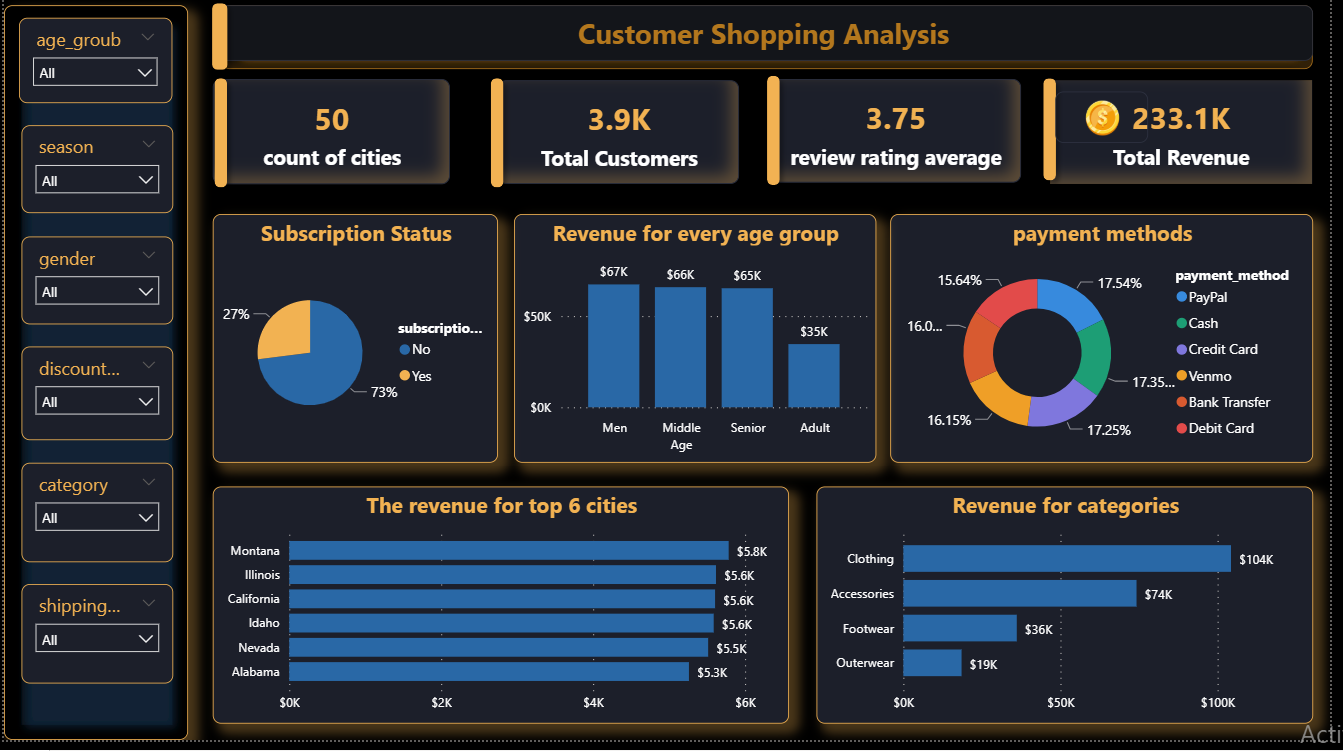

The page's visual inventory and layout, read from the dashboard file:
{"tool":"powerbi","page":{"name":"Page 1","canvas":[1280,720],"ordinal":0},"visuals":[{"type":"shape","box":[209.8,10.9,1052.9,61.5],"z":0},{"type":"card","fields":{"Values":["customer_behavior.review rating average"]},"box":[737.9,82.1,243.5,99.9],"z":1000},{"type":"card","fields":{"Values":["customer_behavior.purchase amount avrege"]},"box":[1009.7,83.5,253.1,99.9],"z":2000},{"type":"card","fields":{"Values":["customer_behavior.Total Customers"]},"box":[476.6,83.5,232.8,100],"z":3000},{"type":"textbox","box":[201.3,11,1061.4,53.4],"z":4000},{"type":"shape","box":[727.6,69.8,30.1,123.3],"z":5000},{"type":"shape","box":[191.7,0,32.9,82.2],"z":6000},{"type":"actionButton","box":[0,10.9,177.3,709.1],"z":7000},{"type":"slicer","fields":{"Values":["customer_behavior.age_groub"]},"box":[15,23.3,147.8,82.1],"z":8000},{"type":"slicer","fields":{"Values":["customer_behavior.season"]},"box":[16.4,127,146.4,84.8],"z":9000},{"type":"slicer","fields":{"Values":["customer_behavior.gender"]},"box":[16.4,233.4,146.4,84.8],"z":10000},{"type":"slicer","fields":{"Values":["customer_behavior.category"]},"box":[16.4,451.8,146.4,95.8],"z":11000},{"type":"donutChart","title":"payment methods","fields":{"Category":["customer_behavior.payment_method"],"Y":["Sum(customer_behavior.customer_id)"]},"box":[854.6,212.3,408.1,239.7],"z":12000},{"type":"slicer","fields":{"Values":["customer_behavior.discount_applied"]},"box":[16.4,339.8,146.4,90.3],"z":13000},{"type":"slicer","fields":{"Values":["customer_behavior.shipping_type"]},"box":[16.4,569.1,146.4,95.8],"z":14000},{"type":"clusteredBarChart","title":"Revenue for categories","fields":{"Category":["customer_behavior.category"],"Y":["Sum(customer_behavior.purchase_amount_)"]},"box":[783.4,475.2,479.4,228.7],"z":15000},{"type":"card","fields":{"Values":["customer_behavior.count of cities"]},"box":[201.3,82.2,228.7,101.3],"z":16000},{"type":"shape","box":[460.9,72.5,30.1,123.1],"z":17000},{"type":"shape","box":[194.3,72.5,30.1,123.1],"z":18000},{"type":"clusteredBarChart","title":"The revenue for top 6 cities ","fields":{"Category":["customer_behavior.location"],"Y":["Sum(customer_behavior.purchase_amount_)"]},"box":[201.3,475.2,556,228.7],"z":19000},{"type":"clusteredColumnChart","title":"Revenue for every age group","fields":{"Category":["customer_behavior.age_groub"],"Y":["Sum(customer_behavior.purchase_amount_)"]},"box":[491.7,212.3,349.2,239.7],"z":20000},{"type":"shape","box":[994.3,72.6,30.1,116.4],"z":21000},{"type":"pieChart","title":"Subscription Status","fields":{"Category":["customer_behavior.subscription_status"],"Y":["CountNonNull(customer_behavior.customer_id)"]},"box":[201.3,212.3,275.3,239.7],"z":22000},{"type":"image","box":[1014.3,94.1,89.2,49.4],"z":23000}]}

Visuals, with their boxes in screenshot pixels (x1, y1, x2, y2), scaled from the page's 1280x720 canvas onto the 1343x751 screenshot:
shape: [x1=220, y1=11, x2=1325, y2=76]
card - customer_behavior.review rating average: [x1=774, y1=86, x2=1030, y2=190]
card - customer_behavior.purchase amount avrege: [x1=1059, y1=87, x2=1325, y2=191]
card - customer_behavior.Total Customers: [x1=500, y1=87, x2=744, y2=191]
textbox: [x1=211, y1=11, x2=1325, y2=67]
shape: [x1=763, y1=73, x2=795, y2=201]
shape: [x1=201, y1=0, x2=236, y2=86]
actionButton: [x1=0, y1=11, x2=186, y2=750]
slicer - customer_behavior.age_groub: [x1=16, y1=24, x2=171, y2=110]
slicer - customer_behavior.season: [x1=17, y1=132, x2=171, y2=221]
slicer - customer_behavior.gender: [x1=17, y1=243, x2=171, y2=332]
slicer - customer_behavior.category: [x1=17, y1=471, x2=171, y2=571]
"payment methods" donutChart: [x1=897, y1=221, x2=1325, y2=471]
slicer - customer_behavior.discount_applied: [x1=17, y1=354, x2=171, y2=449]
slicer - customer_behavior.shipping_type: [x1=17, y1=594, x2=171, y2=694]
"Revenue for categories" clusteredBarChart: [x1=822, y1=496, x2=1325, y2=734]
card - customer_behavior.count of cities: [x1=211, y1=86, x2=451, y2=191]
shape: [x1=484, y1=76, x2=515, y2=204]
shape: [x1=204, y1=76, x2=235, y2=204]
"The revenue for top 6 cities " clusteredBarChart: [x1=211, y1=496, x2=795, y2=734]
"Revenue for every age group" clusteredColumnChart: [x1=516, y1=221, x2=882, y2=471]
shape: [x1=1043, y1=76, x2=1075, y2=197]
"Subscription Status" pieChart: [x1=211, y1=221, x2=500, y2=471]
image: [x1=1064, y1=98, x2=1158, y2=150]
